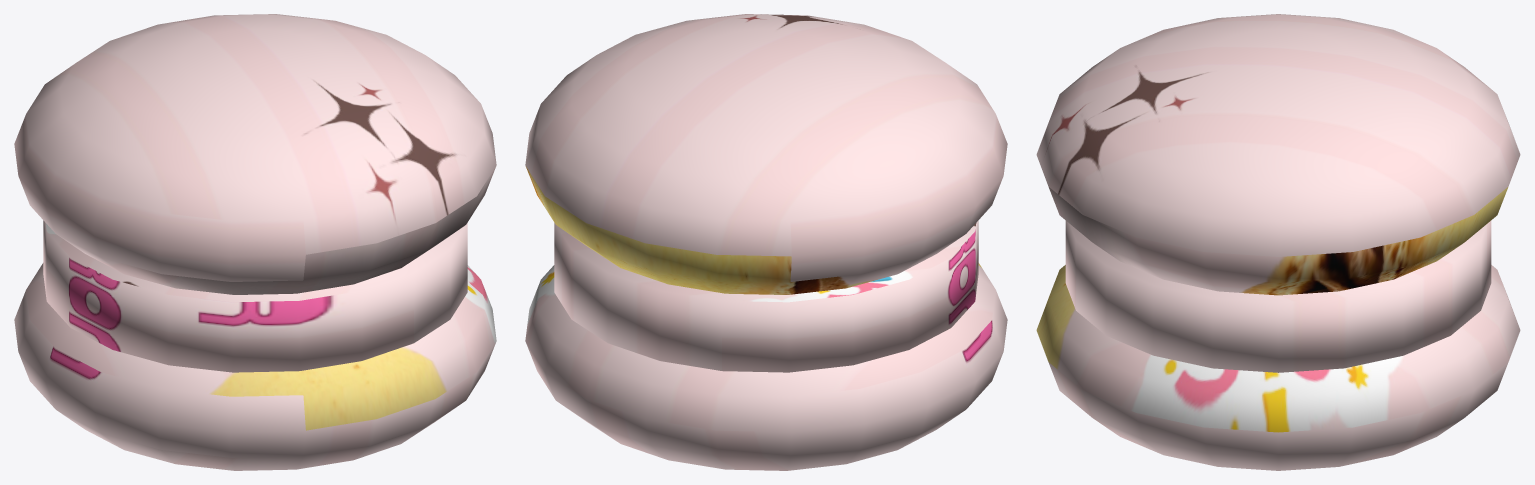
Rendered from prop_peanut_butter_mocha_macaron.glb.
3 renders of one model, left to right at view 1: azimuth 30°, elevation 25°; view 2: azimuth 150°, elevation 25°; view 3: azimuth 270°, elevation 25°, orthographic.
Parts seen in each view (by area): view 1: prop_peanut_butter_mocha_macaron; view 2: prop_peanut_butter_mocha_macaron; view 3: prop_peanut_butter_mocha_macaron.
Boxes of the visible parts, x1,y1,x2,y2 form: prop_peanut_butter_mocha_macaron: (14,14,496,470); prop_peanut_butter_mocha_macaron: (525,14,1007,470); prop_peanut_butter_mocha_macaron: (1036,14,1520,470).
Bounding box in the file's own units: 0.05 × 0.0425 × 0.05.
1 material, 1 textured.
